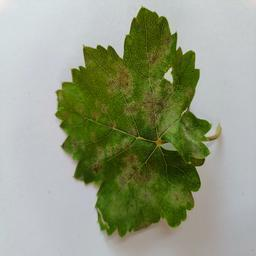Powdery-Mildew: (107, 162, 163, 221), (89, 130, 131, 160), (153, 100, 183, 138), (163, 181, 188, 216), (182, 125, 206, 160), (147, 32, 173, 64), (109, 61, 133, 95), (125, 89, 151, 119), (92, 98, 109, 115)
